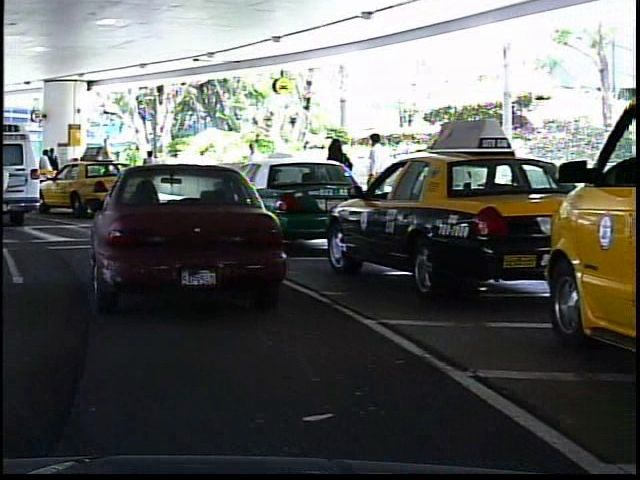person: (317, 132, 352, 231), (359, 129, 391, 227), (238, 137, 266, 207), (133, 145, 159, 198), (45, 145, 61, 197), (36, 146, 52, 198)
